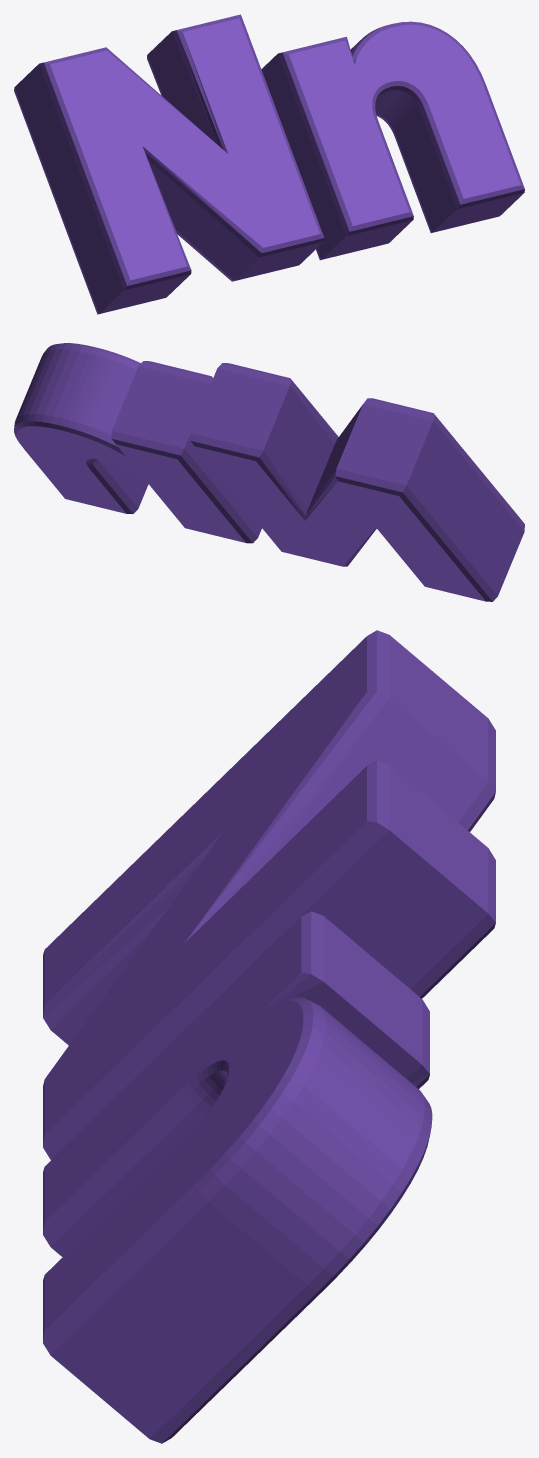
The picture shows the model from 3 angles, top to bottom: view 1: azimuth 30°, elevation 25°; view 2: azimuth 150°, elevation 25°; view 3: azimuth 270°, elevation 25°; orthographic projection. The views are drawn at different scales.
Parts seen in each view (by area): view 1: letter; view 2: letter; view 3: letter.
Part boxes in pixels (x1=…): letter: x1=14, y1=14, x2=524, y2=314; letter: x1=14, y1=343, x2=524, y2=601; letter: x1=43, y1=630, x2=495, y2=1443.
Size of the model in its own units: 1.92 by 0.9716 by 0.9377.
